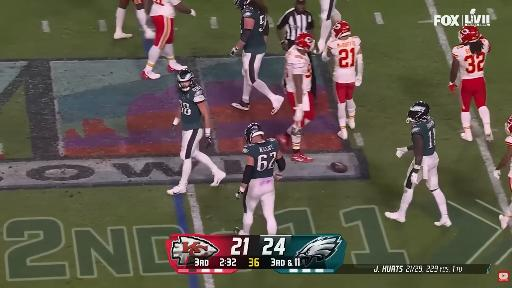Helmet: (407, 102, 429, 122), (459, 26, 481, 43), (245, 123, 263, 143), (177, 69, 194, 90), (295, 33, 314, 51), (332, 21, 350, 38), (235, 0, 250, 11), (505, 116, 511, 135)
Jersey: (327, 36, 361, 83), (452, 39, 490, 79), (243, 139, 278, 178), (178, 84, 205, 130), (285, 46, 311, 93), (241, 7, 267, 54), (412, 118, 435, 156), (150, 0, 180, 18), (508, 161, 511, 178)
Player: (385, 102, 451, 226), (167, 69, 226, 194), (231, 0, 283, 114), (235, 123, 285, 234), (449, 26, 493, 141), (322, 21, 363, 139), (277, 33, 314, 162), (142, 0, 195, 79), (114, 0, 155, 39), (316, 0, 341, 54), (494, 116, 511, 191)
